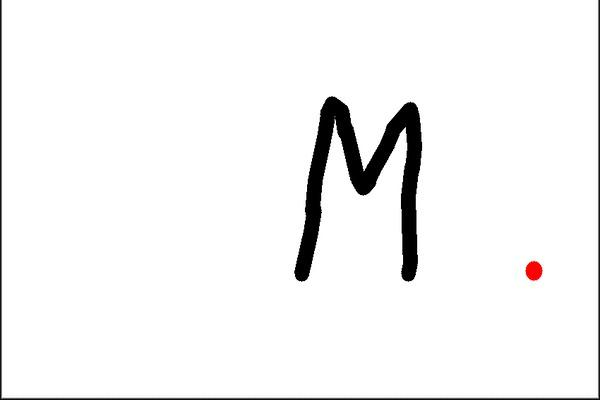M: (291, 93, 423, 286)
